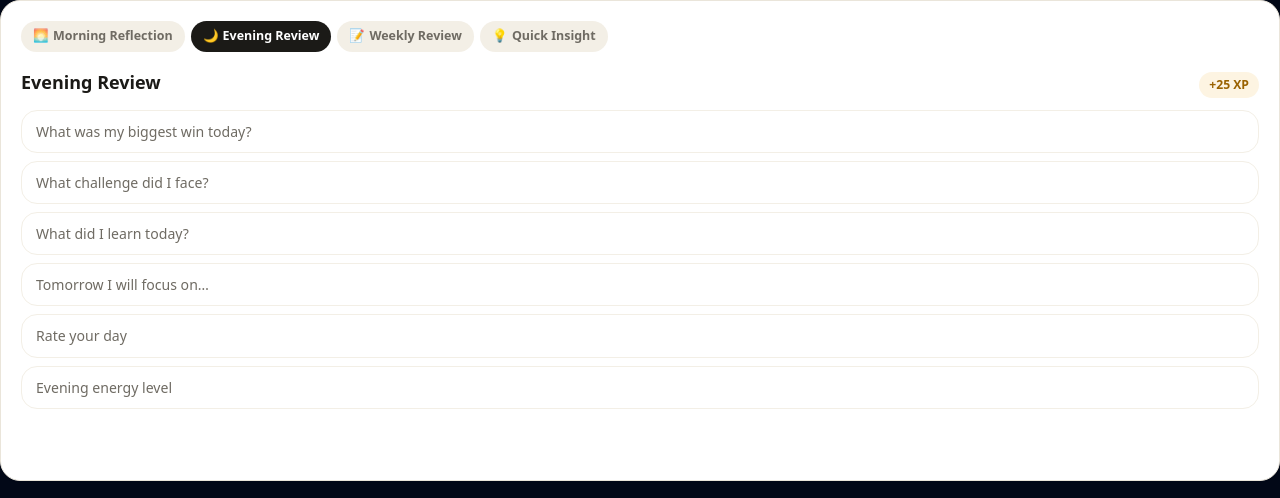
Test: TemplatesPanel › swaps the fields and the XP when another template is picked
This screenshot has width=1280, height=498.
Expected: the text "+25 XP" is shown, [1199,72,1259,98]
Expected: the text "What was my biggest win today?" is shown, [21,110,1259,153]
Click the tab "📝Weekly Review" at point(406, 36), box [337,21,474,52]
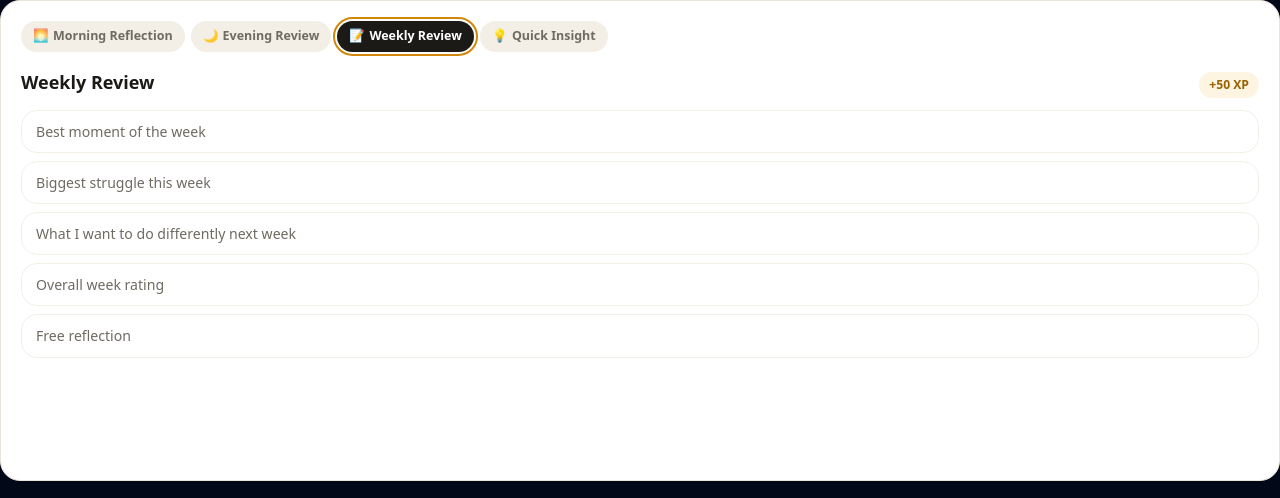
Expected: the text "+50 XP" is shown, [1199,72,1259,98]
Expected: the text "What was my biggest win today" is gone
